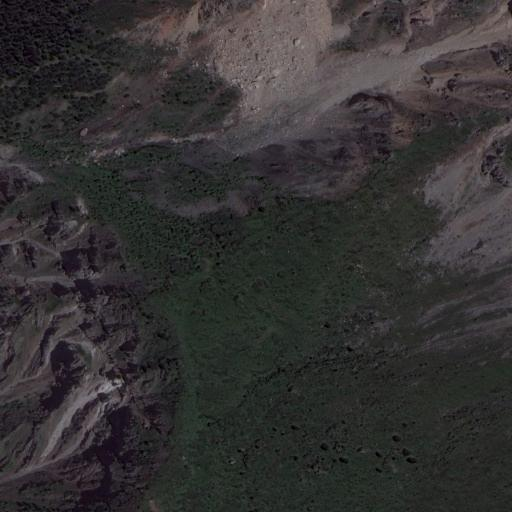landslide: (200, 1, 336, 123)
